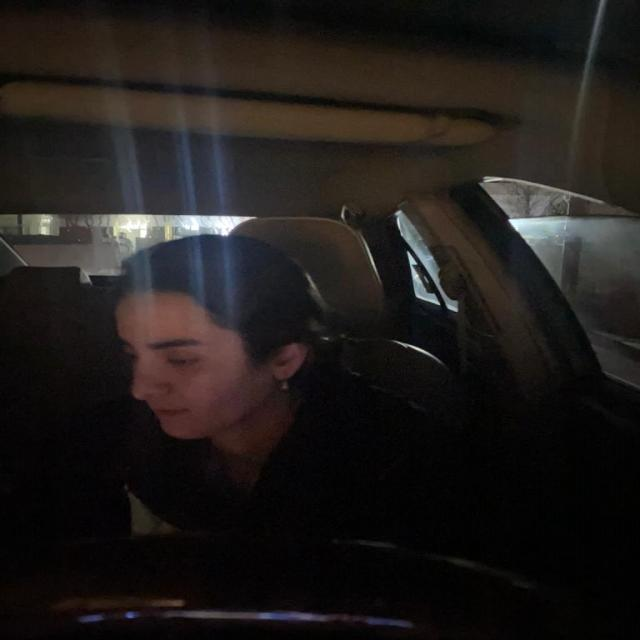LeftRight: (100, 230, 324, 437)
